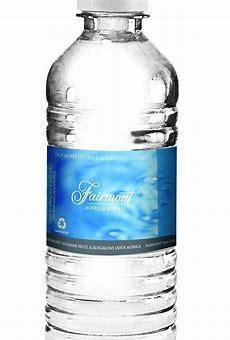plastic_bottle: (43, 1, 182, 340)
